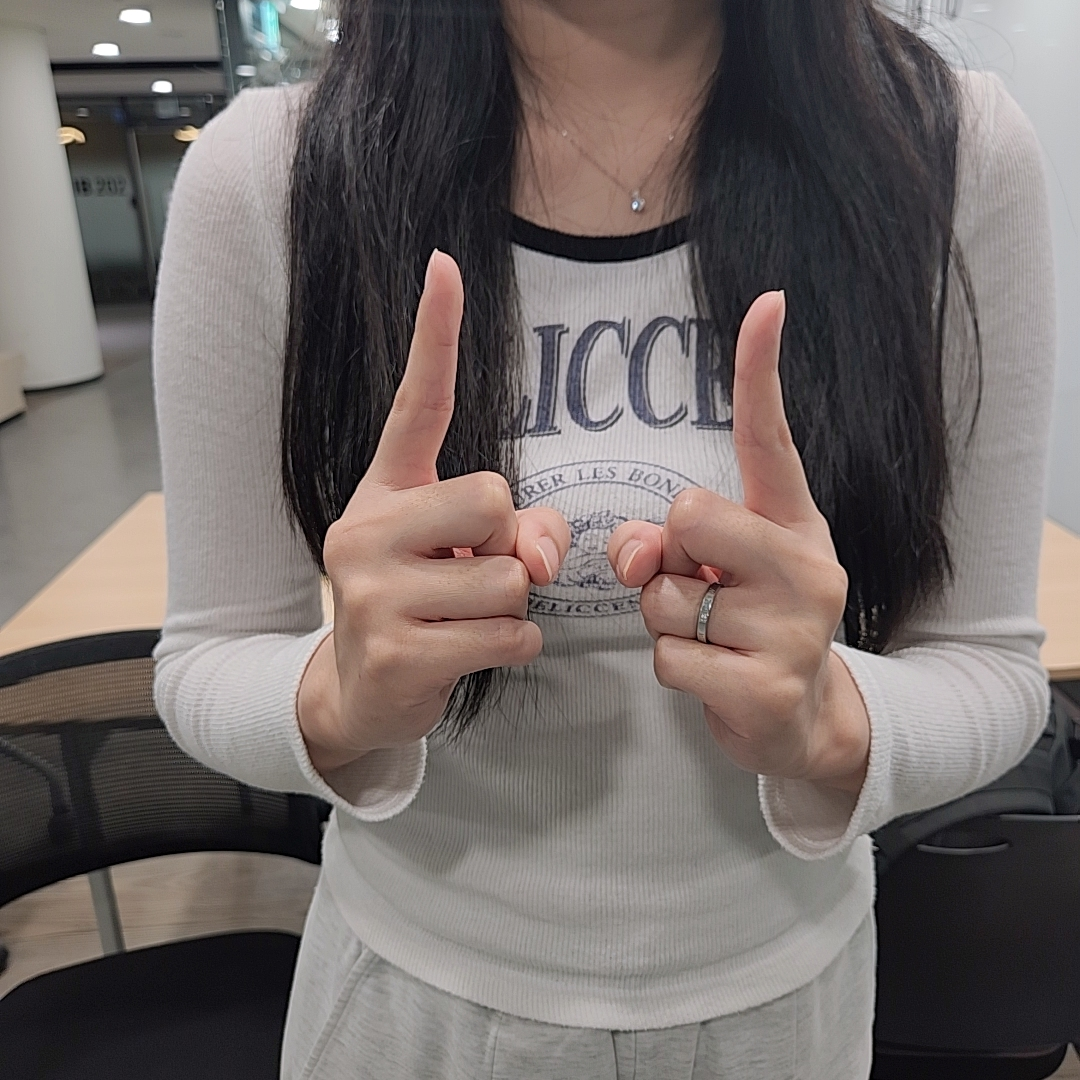meet: (312, 247, 852, 787)
